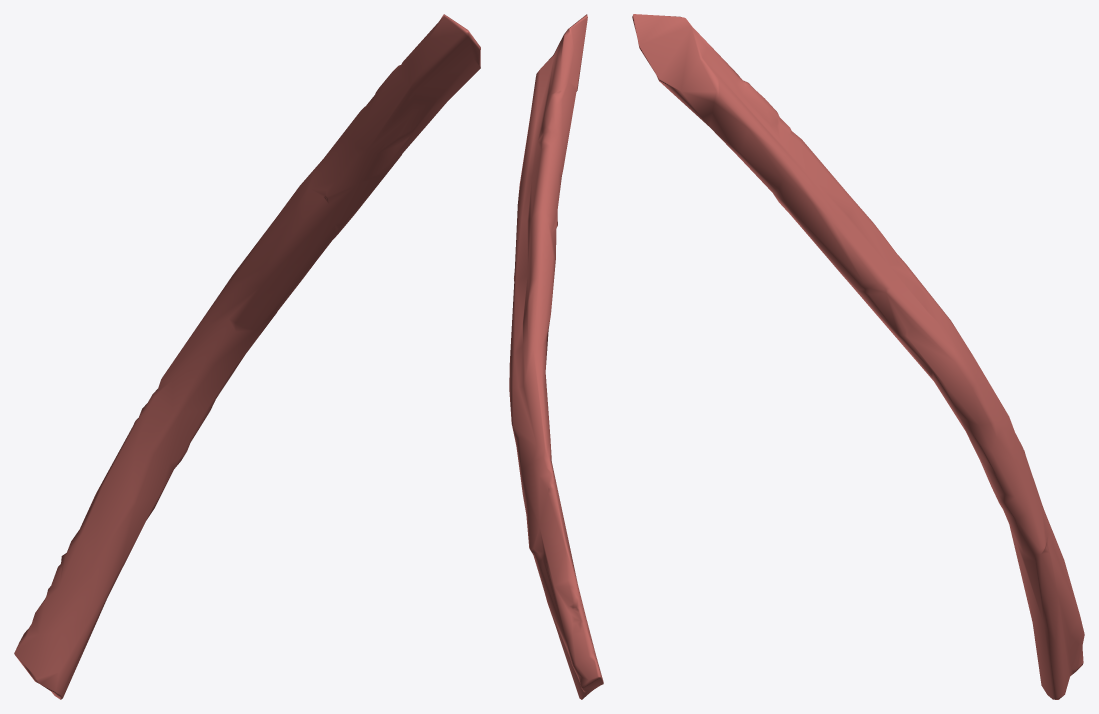
3 views of the same model, side by side, from view 1: azimuth 30°, elevation 25°; view 2: azimuth 150°, elevation 25°; view 3: azimuth 270°, elevation 25° (orthographic). The views are drawn at different scales.
Parts seen in each view (by area): view 1: 左侧肛提肌腱弓; view 2: 左侧肛提肌腱弓; view 3: 左侧肛提肌腱弓.
Part boxes in pixels (x1,y1,x2,y2): 左侧肛提肌腱弓: (14,14,480,699); 左侧肛提肌腱弓: (509,14,603,699); 左侧肛提肌腱弓: (632,14,1084,699).
Bounding box in the file's own units: 0.0351 × 0.0962 × 0.0502.
